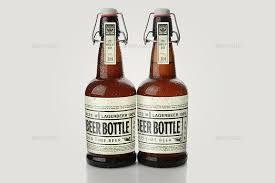Glass bottle: (70, 13, 136, 168), (150, 5, 185, 162)
